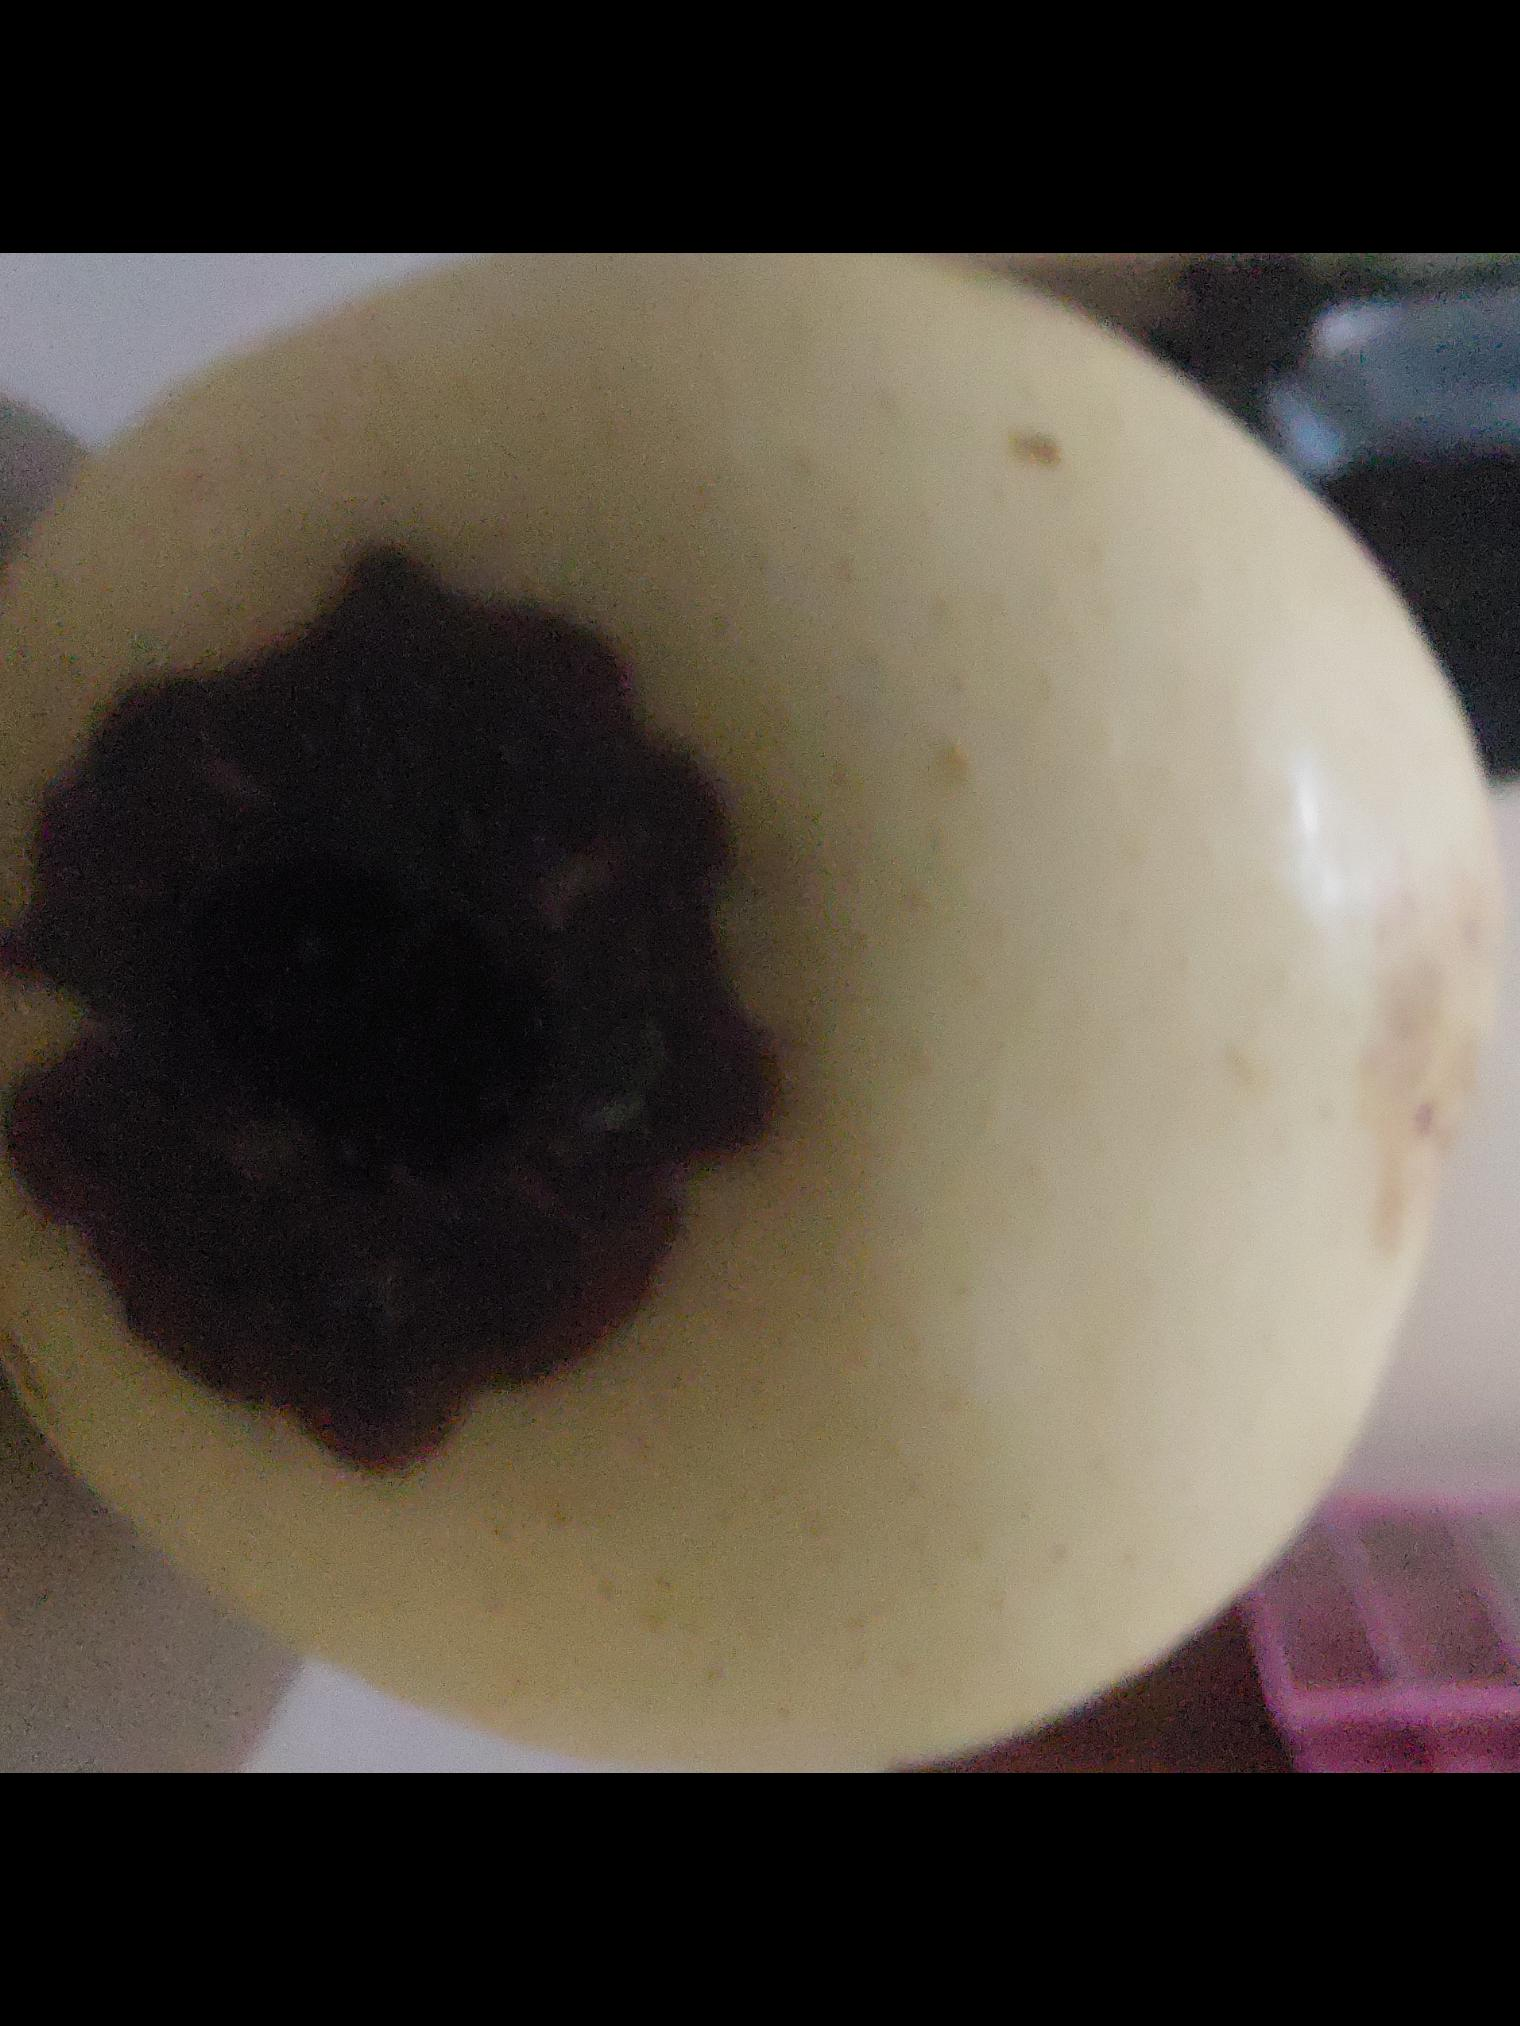Bad Pear: (0, 420, 1162, 1606)
